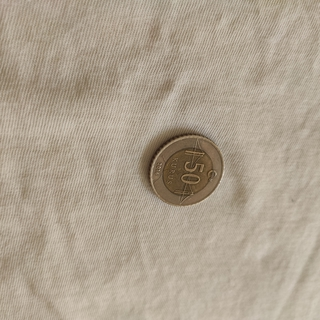50KURUS: (146, 131, 224, 207)
